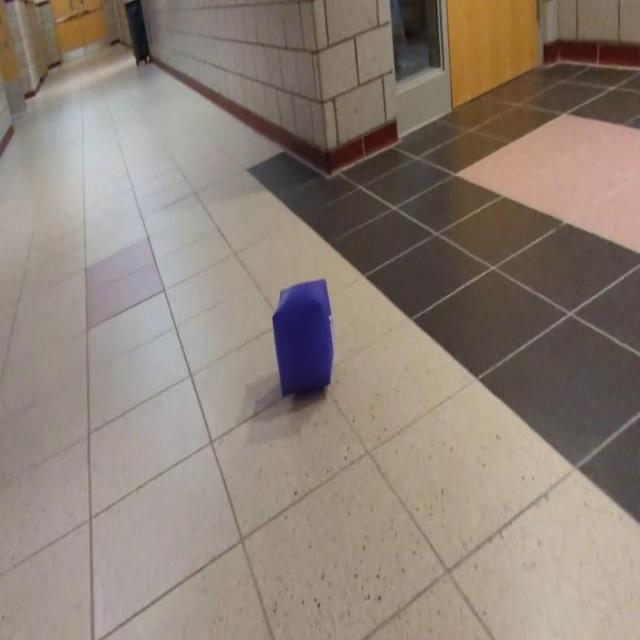frc_cube: (274, 278, 334, 395)
